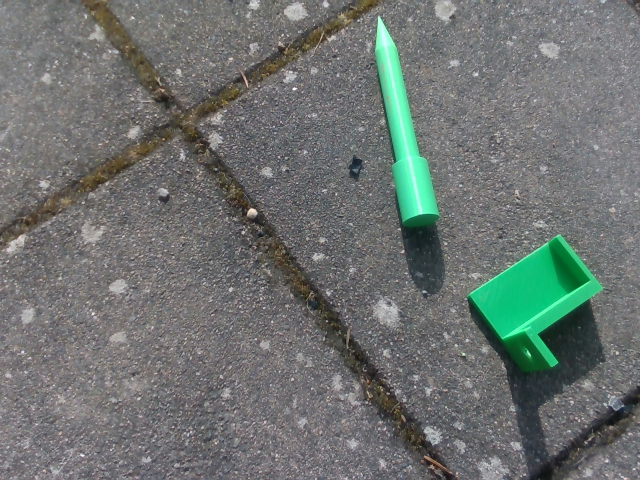Probe: (367, 8, 448, 233)
